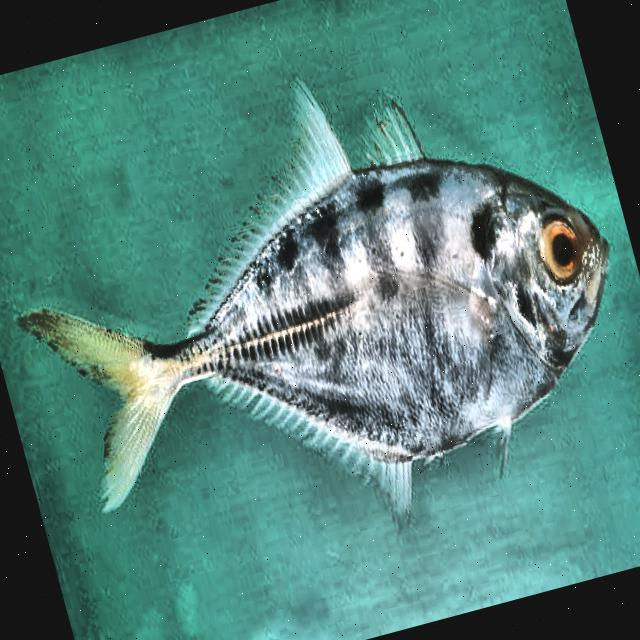fish: (0, 15, 640, 606)
